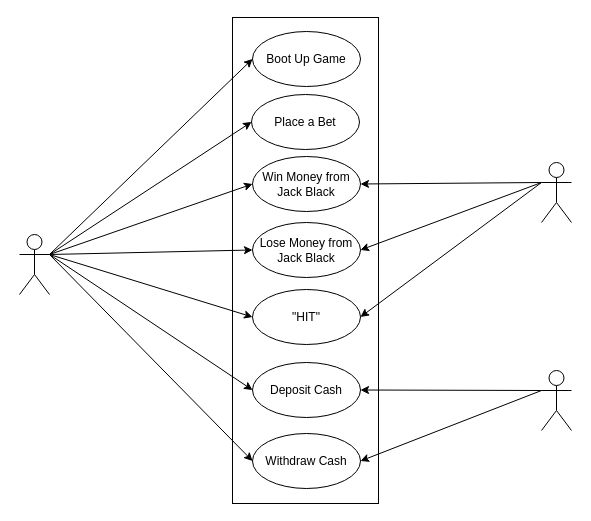
Some shapes in this 591 by 521 pixel diagram are drawn without their labels. Here are the shapes that lost their labels. From the top down, the box of each, then its label:
(540, 162, 572, 222): Dealer
(18, 234, 50, 294): Player
(540, 370, 572, 430): Bank
